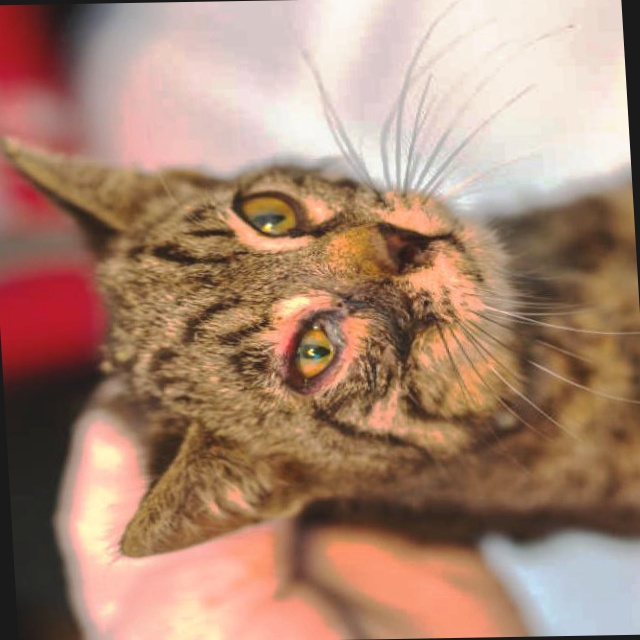eye_infection: (271, 307, 355, 398)
